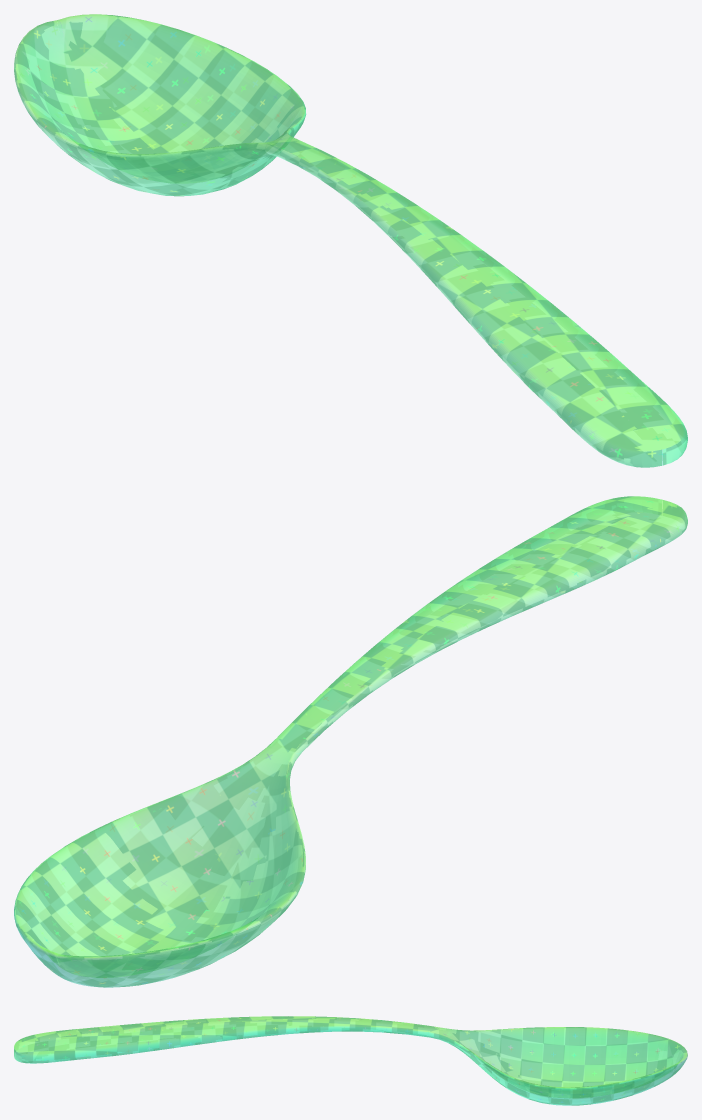
Rendered from Spoon.gltf.
3 renders of one model, top to bottom at view 1: azimuth 30°, elevation 25°; view 2: azimuth 150°, elevation 25°; view 3: azimuth 270°, elevation 25°, orthographic. The views are drawn at different scales.
Visible parts, largest first — view 1: Spoon; view 2: Spoon; view 3: Spoon.
Boxes of the visible parts, left/top/right/bottom form: Spoon: left=14, top=14, right=687, bottom=467; Spoon: left=14, top=496, right=687, bottom=987; Spoon: left=14, top=1016, right=687, bottom=1105.
Size of the model in its own units: 0.264 by 0.155 by 1.21.
Materials: 1 (1 with a texture image).
